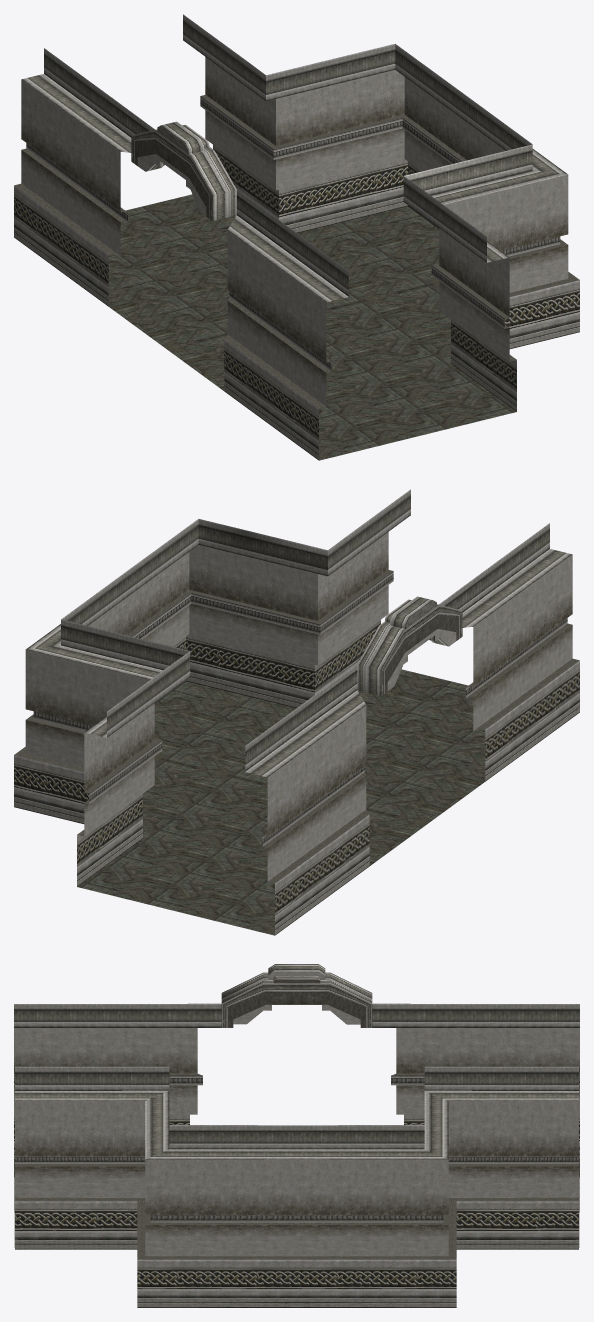
Rendered from DWARF_PALACE_EREBOR_ROOMD.fbx.
3 renders of one model, top to bottom at view 1: azimuth 30°, elevation 25°; view 2: azimuth 150°, elevation 25°; view 3: azimuth 270°, elevation 25°, orthographic. The views are drawn at different scales.
Parts seen in each view (by area): view 1: DWARF_PALACE_EREBOR_ROOMD; view 2: DWARF_PALACE_EREBOR_ROOMD; view 3: DWARF_PALACE_EREBOR_ROOMD.
Boxes of the visible parts, x1,y1,x2,y2 form: DWARF_PALACE_EREBOR_ROOMD: (14, 14, 579, 460); DWARF_PALACE_EREBOR_ROOMD: (14, 489, 579, 935); DWARF_PALACE_EREBOR_ROOMD: (14, 964, 579, 1307).
Bounding box in the file's own units: 131590 × 82013 × 212139.
Materials: 10 (10 with a texture image).
